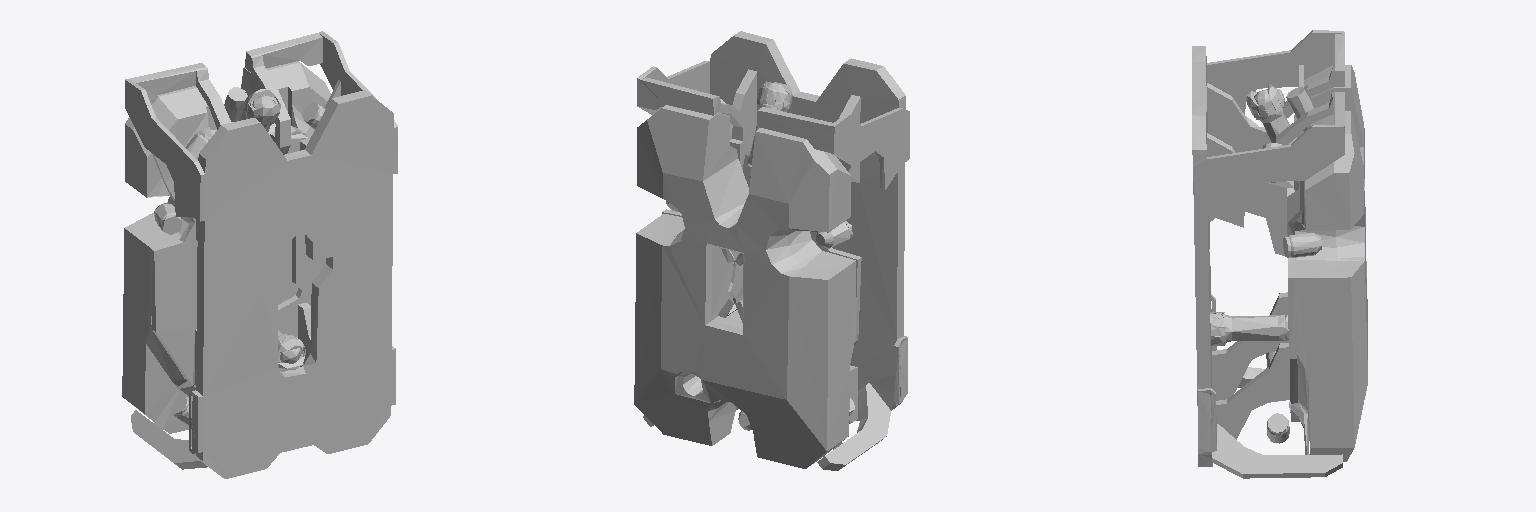
Rendered from bluevolta.obj.
The picture shows the model from 3 angles: view 1: azimuth 30°, elevation 25°; view 2: azimuth 150°, elevation 25°; view 3: azimuth 270°, elevation 25°; orthographic projection.
Visible parts, largest first — view 1: Blue_Volta-eROV.simplified.V2_OBJ2_CoverPlat1, Blue_Volta-eROV.simplified.V2_OBJ2_Copy_of_11885-0518^Blue_Volt, Blue_Volta-eROV.simplified.V2_OBJ2_11719-9080, Blue_Volta-eROV.simplified.V2_OBJ2_11719-9080_1, Blue_Volta-eROV.simplified.V2_OBJ2_FanMotorDummy_2, Blue_Volta-eROV.simplified.V2_OBJ2_11719-9033; view 2: Blue_Volta-eROV.simplified.V2_OBJ2_Copy_of_11885-0518^Blue_Volt, Blue_Volta-eROV.simplified.V2_OBJ2_CoverPlat1, Blue_Volta-eROV.simplified.V2_OBJ2_11719-9080, Blue_Volta-eROV.simplified.V2_OBJ2_FanMotorDummy_2; view 3: Blue_Volta-eROV.simplified.V2_OBJ2_CoverPlat1, Blue_Volta-eROV.simplified.V2_OBJ2_Copy_of_11885-0518^Blue_Volt, Blue_Volta-eROV.simplified.V2_OBJ2_11719-9080_1, Blue_Volta-eROV.simplified.V2_OBJ2_11719-9080, Blue_Volta-eROV.simplified.V2_OBJ2_FanMotorDummy_MIR_1, Blue_Volta-eROV.simplified.V2_OBJ2_FanMotorDummy_MIR, Blue_Volta-eROV.simplified.V2_OBJ2_11719-9033.
Part boxes in pixels (left/top/right/bottom): Blue_Volta-eROV.simplified.V2_OBJ2_CoverPlat1: left=125, top=31, right=397, bottom=478; Blue_Volta-eROV.simplified.V2_OBJ2_Copy_of_11885-0518^Blue_Volt: left=122, top=61, right=330, bottom=433; Blue_Volta-eROV.simplified.V2_OBJ2_11719-9080: left=244, top=89, right=280, bottom=131; Blue_Volta-eROV.simplified.V2_OBJ2_11719-9080_1: left=278, top=330, right=305, bottom=369; Blue_Volta-eROV.simplified.V2_OBJ2_FanMotorDummy_2: left=154, top=203, right=181, bottom=234; Blue_Volta-eROV.simplified.V2_OBJ2_11719-9033: left=224, top=87, right=247, bottom=121; Blue_Volta-eROV.simplified.V2_OBJ2_Copy_of_11885-0518^Blue_Volt: left=634, top=105, right=855, bottom=468; Blue_Volta-eROV.simplified.V2_OBJ2_CoverPlat1: left=637, top=31, right=909, bottom=470; Blue_Volta-eROV.simplified.V2_OBJ2_11719-9080: left=747, top=81, right=792, bottom=177; Blue_Volta-eROV.simplified.V2_OBJ2_FanMotorDummy_2: left=816, top=221, right=852, bottom=248; Blue_Volta-eROV.simplified.V2_OBJ2_CoverPlat1: left=1192, top=30, right=1344, bottom=478; Blue_Volta-eROV.simplified.V2_OBJ2_Copy_of_11885-0518^Blue_Volt: left=1294, top=65, right=1367, bottom=461; Blue_Volta-eROV.simplified.V2_OBJ2_11719-9080_1: left=1210, top=312, right=1288, bottom=345; Blue_Volta-eROV.simplified.V2_OBJ2_11719-9080: left=1247, top=84, right=1296, bottom=144; Blue_Volta-eROV.simplified.V2_OBJ2_FanMotorDummy_MIR_1: left=1283, top=233, right=1321, bottom=257; Blue_Volta-eROV.simplified.V2_OBJ2_FanMotorDummy_MIR: left=1267, top=413, right=1289, bottom=443; Blue_Volta-eROV.simplified.V2_OBJ2_11719-9033: left=1286, top=87, right=1313, bottom=131.
Bounding box in the file's own units: 0.8943 × 1.51 × 0.6796.